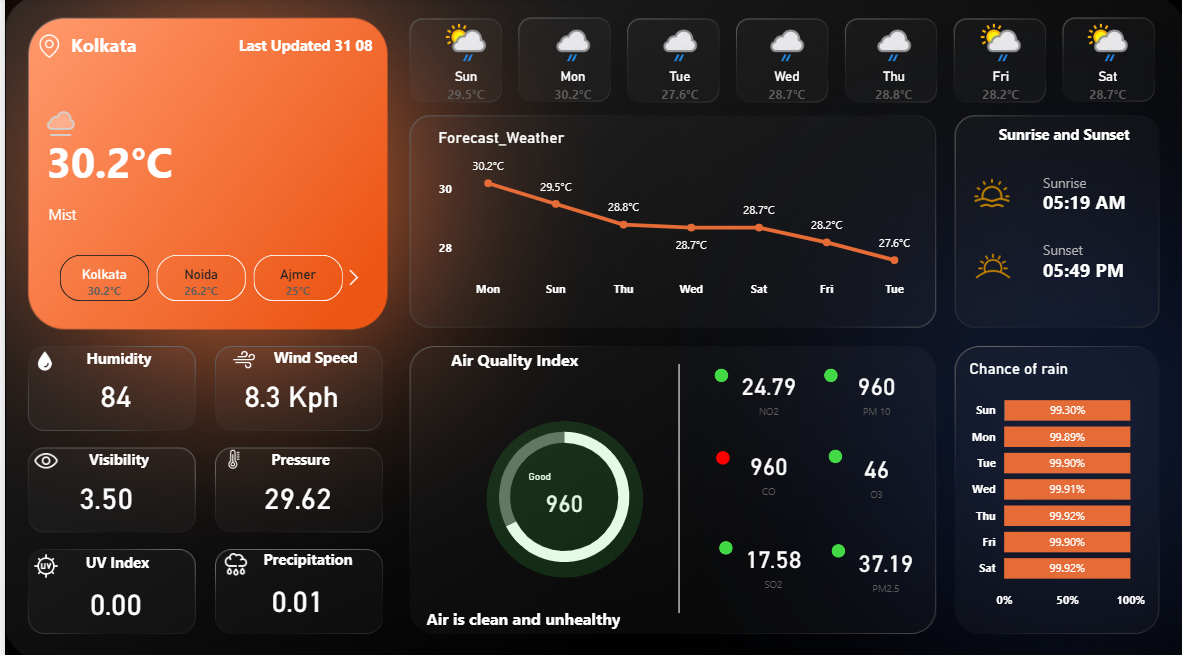

This screenshot's page, from the dashboard's own definition file:
{"tool":"powerbi","page":{"name":"Page 1","canvas":[1280,720],"ordinal":0},"visuals":[{"type":"advancedSlicerVisual","fields":{"Values":["Loaction.location.name"]},"box":[34.2,273.3,359.5,60.2],"z":0},{"type":"shape","box":[45.5,135,203.3,84.6],"z":1000},{"type":"shape","box":[47.2,219.6,201.7,27.7],"z":2000},{"type":"shape","box":[71.6,29.3,128.5,42.3],"z":3000},{"type":"shape","box":[242.4,32.5,156.1,35.8],"z":4000},{"type":"cardVisual","fields":{"Data":["Min(current_table.current.condition.icon)"]},"box":[17.9,94.3,89.5,79.7],"z":5000},{"type":"image","box":[26,34.2,43.9,35.8],"z":6000},{"type":"image","box":[232.6,479.8,30.9,40.7],"z":7000},{"type":"image","box":[19.5,481.5,50.4,40.7],"z":8000},{"type":"image","box":[19.5,377.4,47.2,32.5],"z":9000},{"type":"image","box":[226.1,593.7,48.8,40.7],"z":10000},{"type":"image","box":[19.5,596.9,50.4,37.4],"z":11000},{"type":"image","box":[232.6,374.1,53.7,35.8],"z":12000},{"type":"shape","box":[45.5,372.5,156.1,35.8],"z":13000},{"type":"shape","box":[250.5,590.4,156.1,35.8],"z":14000},{"type":"shape","box":[43.9,593.7,156.1,35.8],"z":15000},{"type":"shape","box":[242.4,481.5,156.1,35.8],"z":16000},{"type":"shape","box":[45.5,481.5,156.1,35.8],"z":17000},{"type":"shape","box":[258.6,370.9,156.1,35.8],"z":18000},{"type":"cardVisual","fields":{"Data":["Sum(current_table.current.humidity)"]},"box":[86.2,388.7,71.6,74.8],"z":19000},{"type":"cardVisual","fields":{"Data":["Measure.Wind_Speed"]},"box":[242.4,388.7,183.8,74.8],"z":20000},{"type":"cardVisual","fields":{"Data":["Sum(current_table.current.pressure_in)"]},"box":[263.5,499.3,109,74.8],"z":21000},{"type":"cardVisual","fields":{"Data":["Sum(current_table.current.vis_km)"]},"box":[63.4,499.3,109,74.8],"z":22000},{"type":"cardVisual","fields":{"Data":["Sum(current_table.current.uv)"]},"box":[74.8,614.8,94.3,74.8],"z":23000},{"type":"cardVisual","fields":{"Data":["Sum(current_table.current.precip_mm)"]},"box":[271.6,611.6,97.6,74.8],"z":24000},{"type":"advancedSlicerVisual","fields":{"Values":["forecast_table.Day_Name"]},"box":[440,15,820,120],"z":25000},{"type":"lineChart","title":"Forecast_Weather","fields":{"Y":["Sum(forecast_table.forecast.forecastday.day.avgtemp_c)"],"Category":["forecast_table.Day_Name"]},"box":[465,141.7,533.3,191.7],"z":26000},{"type":"shape","box":[1070,130,156.7,35],"z":27000},{"type":"shape","box":[1125,193.3,116.7,55],"z":28000},{"type":"shape","box":[1125,266.7,116.7,55],"z":29000},{"type":"shape","box":[1125,176.7,116.7,45],"z":30000},{"type":"shape","box":[1125,250,116.7,45],"z":31000},{"type":"image","box":[1046.7,183.3,48.3,55],"z":32000},{"type":"image","box":[1041.7,260,60,60],"z":33000},{"type":"hundredPercentStackedBarChart","title":"Chance of rain","fields":{"Y":["Measure.Left_Value_Rain","Sum(forecast.forecast.forecastday.day.daily_chance_of_rain)"],"Category":["forecast_table.Day_Name"]},"box":[1041.7,391.7,200,278.3],"z":34000},{"type":"shape","box":[465,373.3,175,35],"z":35000},{"type":"card","title":"PM 10","fields":{"Values":["Sum(current_table.current.air_quality.co)"]},"box":[891.7,383.3,106.7,86.7],"z":36000},{"type":"card","title":"O3","fields":{"Values":["Sum(current_table.current.air_quality.o3)"]},"box":[891.7,473.3,106.7,86.7],"z":37000},{"type":"card","title":"PM 2.5","fields":{"Values":["Sum(current_table.current.air_quality.pm2_5)"]},"box":[891.7,575,126.7,86.7],"z":38000},{"type":"card","title":"SO2","fields":{"Values":["Sum(current_table.current.air_quality.so2)"]},"box":[770,571.7,126.7,86.7],"z":39000},{"type":"card","title":"CO","fields":{"Values":["Sum(current_table.current.air_quality.co)"]},"box":[765,470,126.7,86.7],"z":40000},{"type":"card","title":"NO2","fields":{"Values":["Sum(current_table.current.air_quality.no2)"]},"box":[765,383.3,126.7,86.7],"z":41000},{"type":"shape","box":[770,401.7,15,15],"z":42000},{"type":"shape","box":[771.7,491.7,15,15],"z":43000},{"type":"shape","box":[775,588.3,15,15],"z":44000},{"type":"shape","box":[888.3,401.7,15,15],"z":45000},{"type":"shape","box":[893.3,490,15,15],"z":46000},{"type":"shape","box":[896.7,591.7,15,15],"z":47000},{"type":"donutChart","title":"PM 10","fields":{"Y":["Sum(current_table.current.air_quality.co)","Measure.Left_value_PM10"]},"box":[465,446.7,281.7,186.7],"z":48000},{"type":"card","fields":{"Values":["Sum(current_table.current.air_quality.co)"]},"box":[563.3,511.7,86.7,56.7],"z":49000},{"type":"shape","box":[521.7,458.3,170,170],"z":50000},{"type":"shape","box":[705,396.7,53.3,270],"z":51000},{"type":"shape","box":[456.7,655,300,35],"z":51001}]}

Visuals, with their boxes in screenshot pixels (x1, y1, x2, y2), scaled from the page's 1280x720 canvas onto the 1182x655 screenshot:
advancedSlicerVisual - Loaction.location.name: Rect(32, 249, 364, 303)
shape: Rect(42, 123, 230, 200)
shape: Rect(44, 200, 230, 225)
shape: Rect(66, 27, 185, 65)
shape: Rect(224, 30, 368, 62)
cardVisual - Min(current_table.current.condition.icon): Rect(17, 86, 99, 158)
image: Rect(24, 31, 65, 64)
image: Rect(215, 436, 243, 474)
image: Rect(18, 438, 65, 475)
image: Rect(18, 343, 62, 373)
image: Rect(209, 540, 254, 577)
image: Rect(18, 543, 65, 577)
image: Rect(215, 340, 264, 373)
shape: Rect(42, 339, 186, 371)
shape: Rect(231, 537, 375, 570)
shape: Rect(41, 540, 185, 573)
shape: Rect(224, 438, 368, 471)
shape: Rect(42, 438, 186, 471)
shape: Rect(239, 337, 383, 370)
cardVisual - Sum(current_table.current.humidity): Rect(80, 354, 146, 422)
cardVisual - Measure.Wind_Speed: Rect(224, 354, 394, 422)
cardVisual - Sum(current_table.current.pressure_in): Rect(243, 454, 344, 522)
cardVisual - Sum(current_table.current.vis_km): Rect(59, 454, 159, 522)
cardVisual - Sum(current_table.current.uv): Rect(69, 559, 156, 627)
cardVisual - Sum(current_table.current.precip_mm): Rect(251, 556, 341, 624)
advancedSlicerVisual - forecast_table.Day_Name: Rect(406, 14, 1164, 123)
"Forecast_Weather" lineChart: Rect(429, 129, 922, 303)
shape: Rect(988, 118, 1133, 150)
shape: Rect(1039, 176, 1147, 226)
shape: Rect(1039, 243, 1147, 293)
shape: Rect(1039, 161, 1147, 202)
shape: Rect(1039, 227, 1147, 268)
image: Rect(967, 167, 1011, 217)
image: Rect(962, 237, 1017, 291)
"Chance of rain" hundredPercentStackedBarChart: Rect(962, 356, 1147, 610)
shape: Rect(429, 340, 591, 371)
"PM 10" card: Rect(823, 349, 922, 428)
"O3" card: Rect(823, 431, 922, 509)
"PM 2.5" card: Rect(823, 523, 940, 602)
"SO2" card: Rect(711, 520, 828, 599)
"CO" card: Rect(706, 428, 823, 506)
"NO2" card: Rect(706, 349, 823, 428)
shape: Rect(711, 365, 725, 379)
shape: Rect(713, 447, 726, 461)
shape: Rect(716, 535, 730, 549)
shape: Rect(820, 365, 834, 379)
shape: Rect(825, 446, 839, 459)
shape: Rect(828, 538, 842, 552)
"PM 10" donutChart: Rect(429, 406, 690, 576)
card - Sum(current_table.current.air_quality.co): Rect(520, 466, 600, 517)
shape: Rect(482, 417, 639, 572)
shape: Rect(651, 361, 700, 607)
shape: Rect(422, 596, 699, 628)
